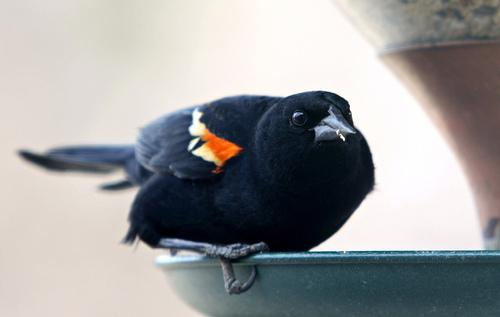010.Red_winged_Blackbird: (16, 91, 377, 294)
